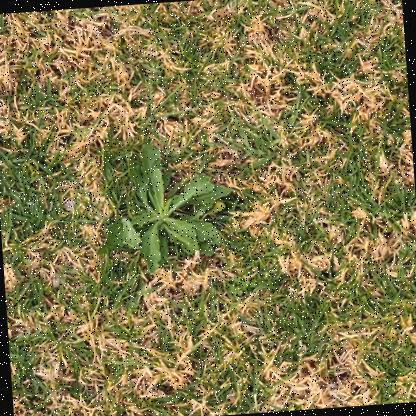Weeds: (88, 135, 239, 278)
